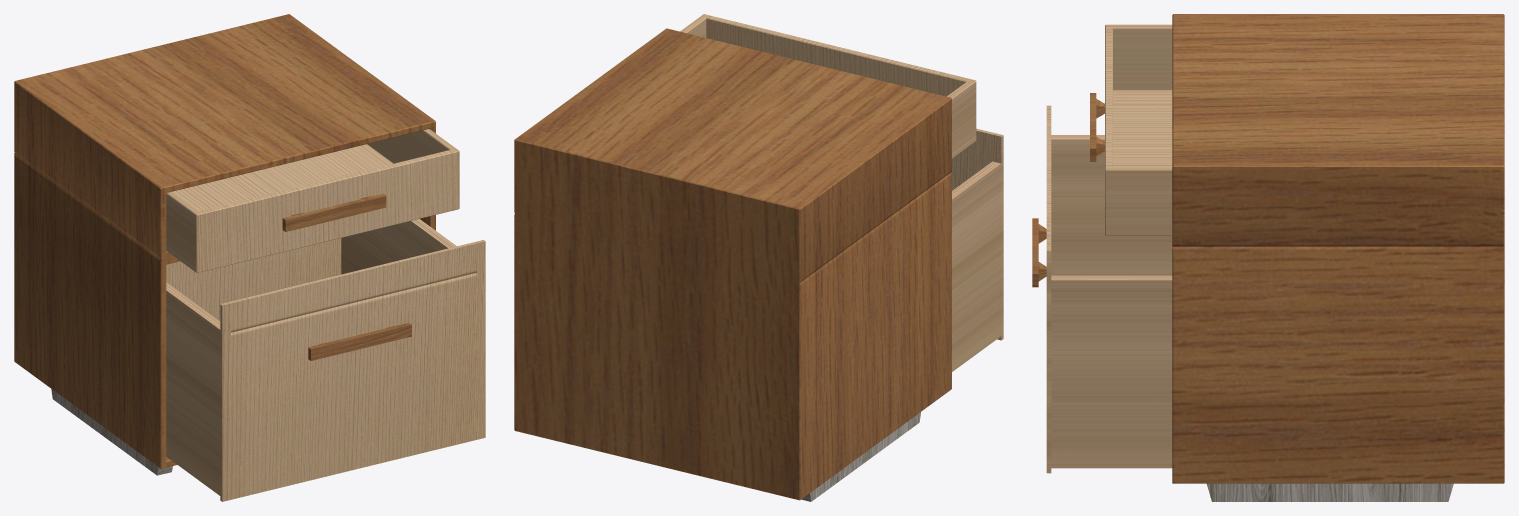
Rendered from Drawer.fbx.
The picture shows the model from 3 angles, left to right: view 1: azimuth 30°, elevation 25°; view 2: azimuth 150°, elevation 25°; view 3: azimuth 270°, elevation 25°; orthographic projection. The views are drawn at different scales.
Parts seen in each view (by area): view 1: Cabinate, Drawer2, Drawer1, Leg1; view 2: Cabinate, Drawer2, Drawer1, Leg1; view 3: Cabinate, Drawer2, Drawer1, Leg2.
Boxes of the visible parts, box(x1,y1,x2,y2) form: Cabinate: box(14, 14, 435, 468); Drawer2: box(166, 219, 485, 501); Drawer1: box(166, 129, 459, 272); Leg1: box(51, 389, 172, 475); Cabinate: box(514, 28, 951, 500); Drawer2: box(952, 128, 1003, 371); Drawer1: box(680, 14, 976, 158); Leg1: box(801, 412, 920, 501); Cabinate: box(1172, 14, 1504, 483); Drawer2: box(1032, 105, 1172, 473); Drawer1: box(1090, 24, 1172, 235); Leg2: box(1207, 483, 1453, 501).
Size of the model in its own units: 45.28 by 47.62 by 59.28.
